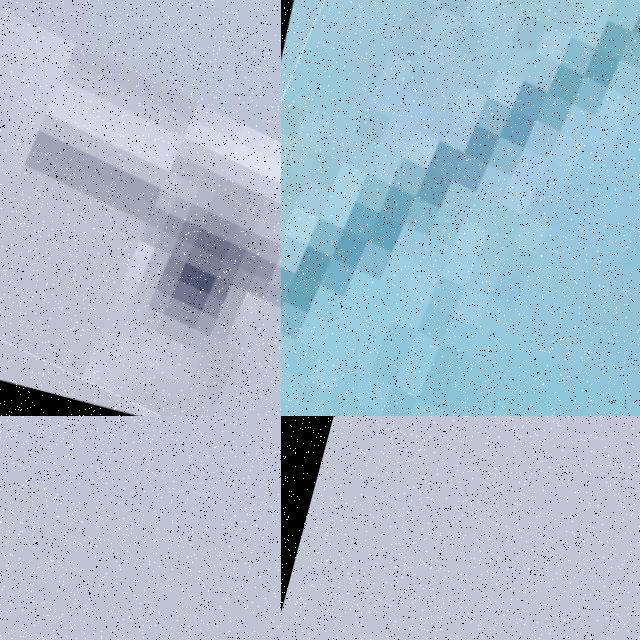drone: (281, 0, 640, 416), (0, 0, 281, 416)
